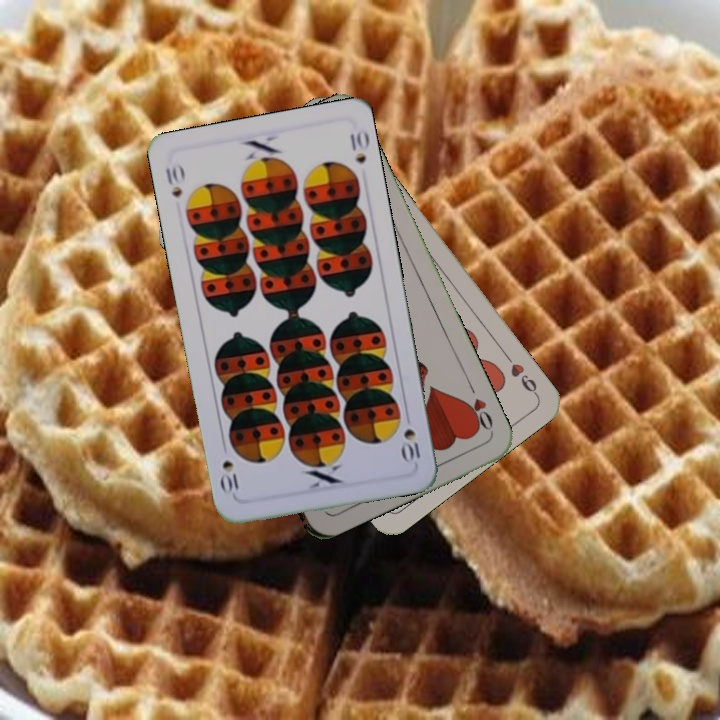H9: (499, 348, 540, 399)
HO: (459, 379, 496, 435)
S10: (398, 408, 424, 466), (161, 159, 187, 200)
